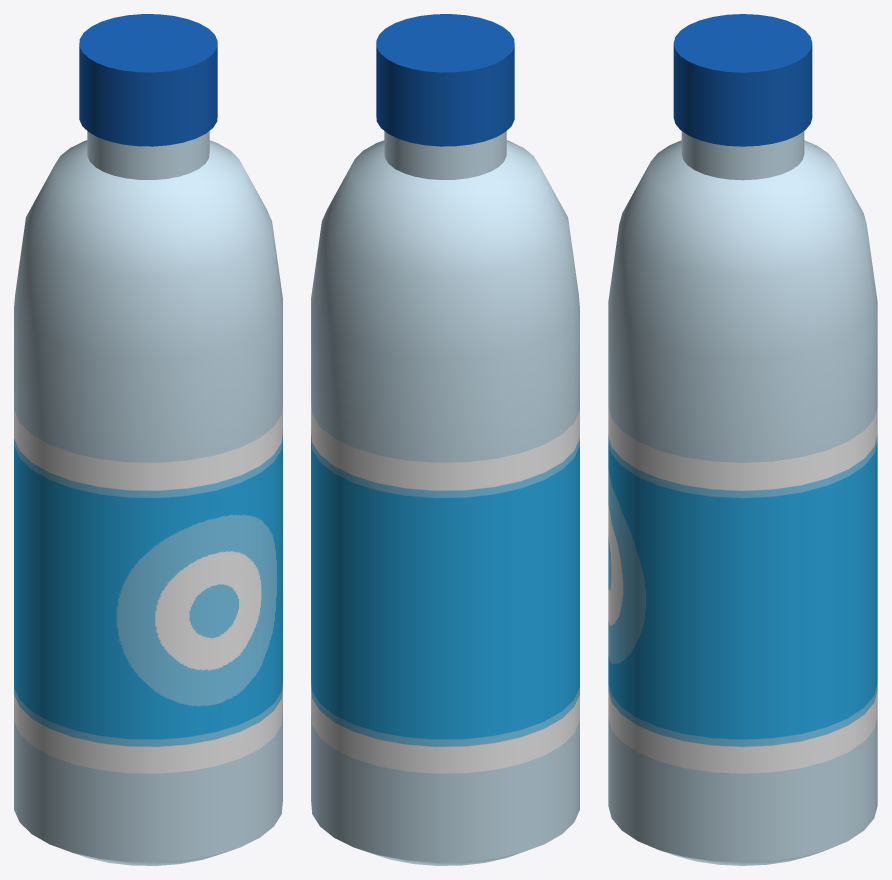
The model's file is Water.fbx.
3 views of the same model, side by side, from view 1: azimuth 30°, elevation 25°; view 2: azimuth 150°, elevation 25°; view 3: azimuth 270°, elevation 25° (orthographic).
Parts seen in each view (by area): view 1: Water; view 2: Water; view 3: Water.
Boxes of the visible parts, x1,y1,x2,y2 form: Water: (14, 14, 282, 865); Water: (311, 14, 579, 865); Water: (608, 14, 877, 865).
Size of the model in its own units: 0.066 by 0.21 by 0.066.
3 materials, 1 textured.
